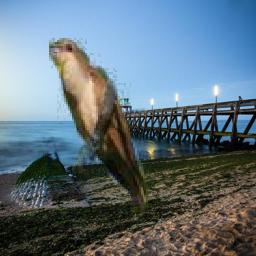Cuckoo: (49, 38, 153, 216)
